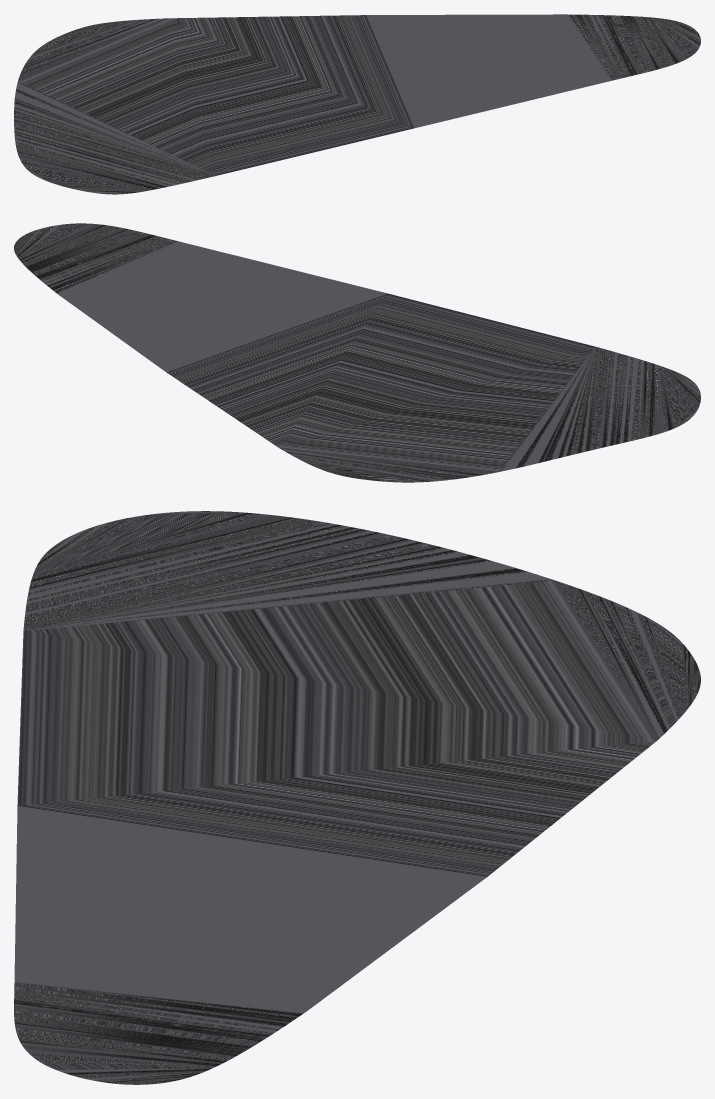
3 renders of one model, top to bottom at view 1: azimuth 30°, elevation 25°; view 2: azimuth 150°, elevation 25°; view 3: azimuth 270°, elevation 25°, orthographic. The views are drawn at different scales.
Visible parts, largest first — view 1: interior_edges_Plane.002; view 2: interior_edges_Plane.002; view 3: interior_edges_Plane.002.
Part boxes in pixels (x1=…): interior_edges_Plane.002: x1=14, y1=14, x2=700, y2=194; interior_edges_Plane.002: x1=14, y1=223, x2=700, y2=482; interior_edges_Plane.002: x1=14, y1=511, x2=700, y2=1084.
Size of the model in its own units: 490 by 2.77 by 247.
